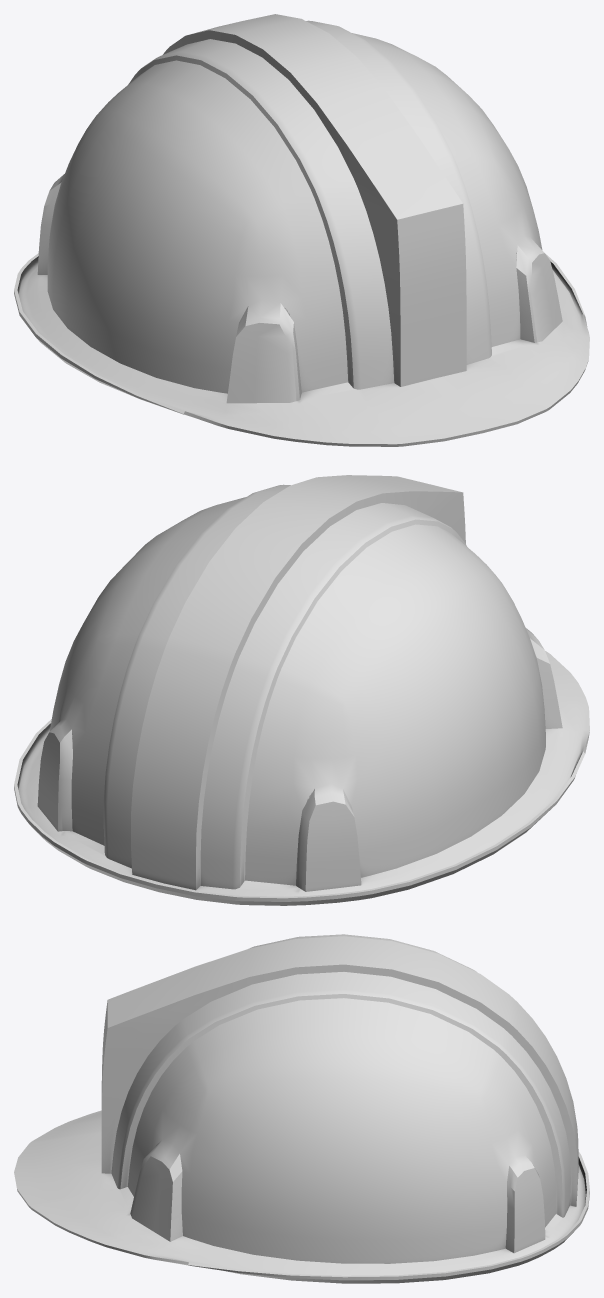
File: casco blanco Low Poly Original.fbx
3 views of the same model, one above another, from view 1: azimuth 30°, elevation 25°; view 2: azimuth 150°, elevation 25°; view 3: azimuth 270°, elevation 25° (orthographic). The views are drawn at different scales.
Visible parts, largest first — view 1: casco blanco; view 2: casco blanco; view 3: casco blanco.
Boxes of the visible parts, x1=… form: casco blanco: x1=14, y1=14, x2=589, y2=446; casco blanco: x1=14, y1=475, x2=589, y2=905; casco blanco: x1=14, y1=934, x2=589, y2=1283.
Size of the model in its own units: 23.49 by 13.52 by 28.34.
1 material, 1 textured.
